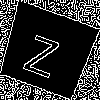Z: (22, 26, 64, 78)
